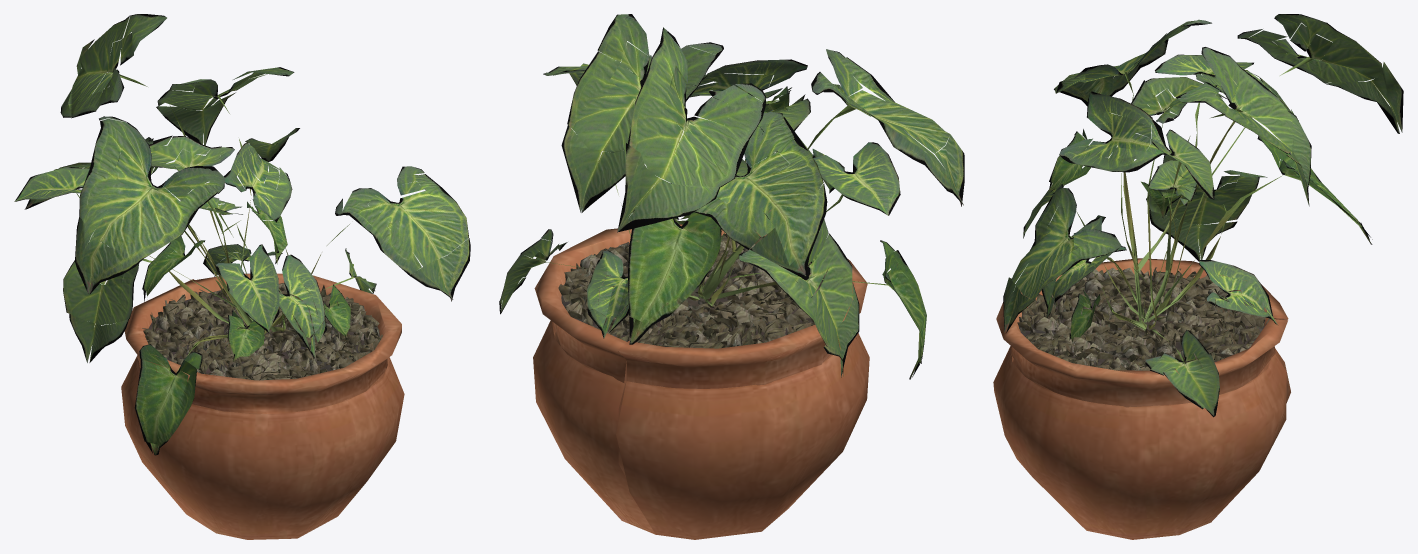
Rendered from ph_potted_plant_02.glb.
The picture shows the model from 3 angles, left to right: view 1: azimuth 30°, elevation 25°; view 2: azimuth 150°, elevation 25°; view 3: azimuth 270°, elevation 25°; orthographic projection. The views are drawn at different scales.
Visible parts, largest first — view 1: potted_plant_02_pot; view 2: potted_plant_02_pot; view 3: potted_plant_02_pot.
Part boxes in pixels (x1,y1,x2,y2): potted_plant_02_pot: (14, 14, 470, 539); potted_plant_02_pot: (499, 14, 964, 539); potted_plant_02_pot: (993, 14, 1403, 539).
Bounding box in the file's own units: 0.6985 × 0.8436 × 0.6582.
2 materials, 2 textured.
